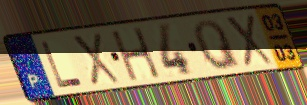4: (157, 22, 195, 78)
H: (108, 25, 164, 84)
L: (38, 39, 85, 89)
Q: (193, 18, 244, 72)
X: (222, 12, 276, 69), (69, 31, 123, 88)
